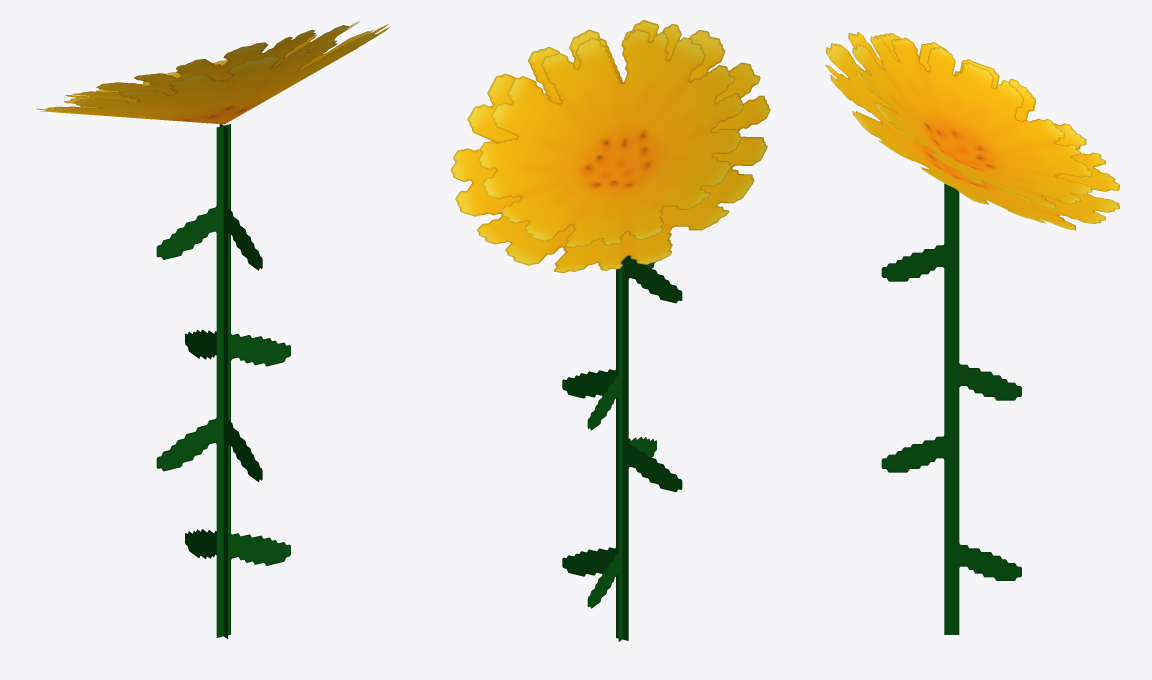
File: lance_leaf_coreopsis.fbx
The picture shows the model from 3 angles, left to right: view 1: azimuth 30°, elevation 25°; view 2: azimuth 150°, elevation 25°; view 3: azimuth 270°, elevation 25°; orthographic projection. The views are drawn at different scales.
Parts seen in each view (by area): view 1: lance_leaf_coreopsis; view 2: lance_leaf_coreopsis; view 3: lance_leaf_coreopsis.
Boxes of the visible parts, x1,y1,x2,y2 form: lance_leaf_coreopsis: (36, 20, 389, 638); lance_leaf_coreopsis: (450, 20, 770, 641); lance_leaf_coreopsis: (825, 32, 1119, 634).
Size of the model in its own units: 143 by 253 by 127.
1 material, 1 textured.
